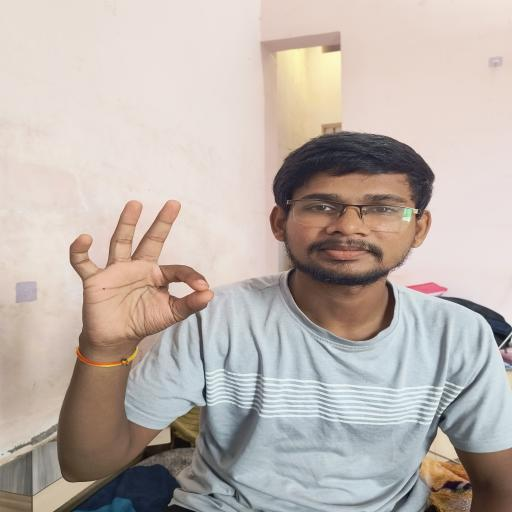Previous: (49, 195, 224, 346)
